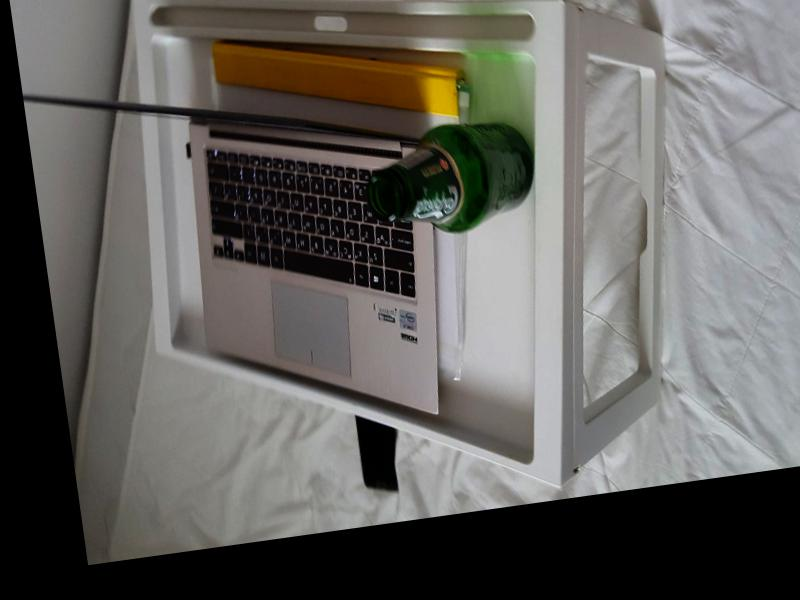Beer: (360, 114, 541, 241)
